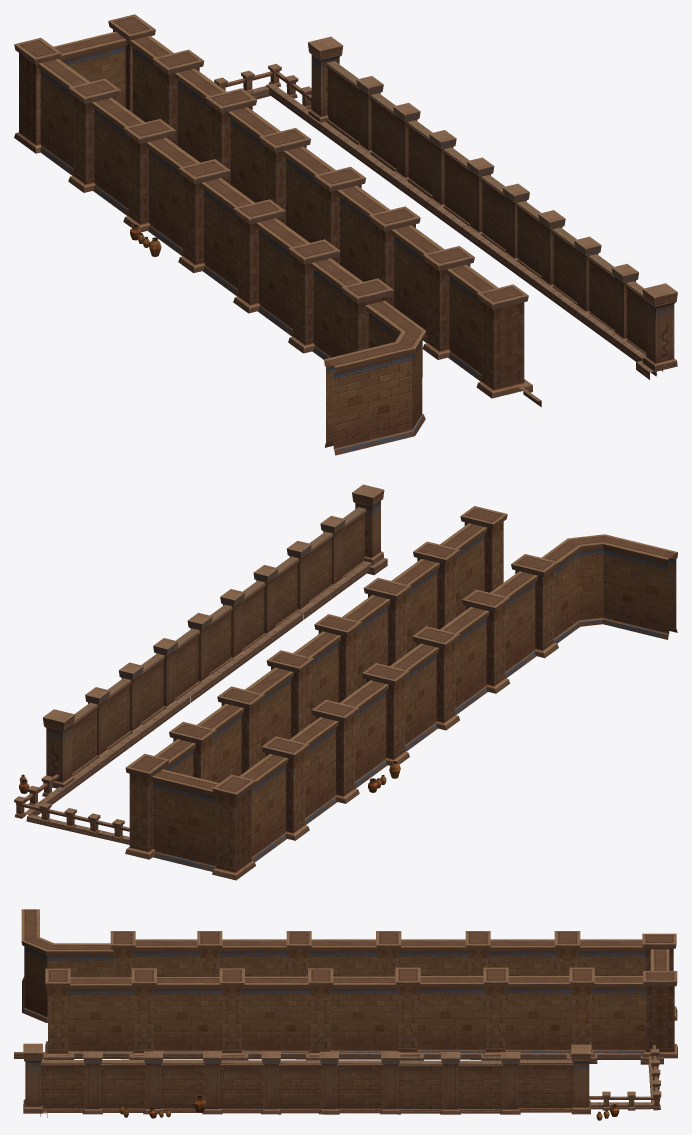
Rendered from Area_06_13.fbx.
The picture shows the model from 3 angles, top to bottom: view 1: azimuth 30°, elevation 25°; view 2: azimuth 150°, elevation 25°; view 3: azimuth 270°, elevation 25°; orthographic projection. The views are drawn at different scales.
Visible parts, largest first — view 1: Area_06_13; view 2: Area_06_13; view 3: Area_06_13.
Boxes of the visible parts, <box> form: Area_06_13: <box>14,14,677,455</box>; Area_06_13: <box>14,484,677,880</box>; Area_06_13: <box>14,909,677,1120</box>.
Bounding box in the file's own units: 3093 × 822 × 5985.
